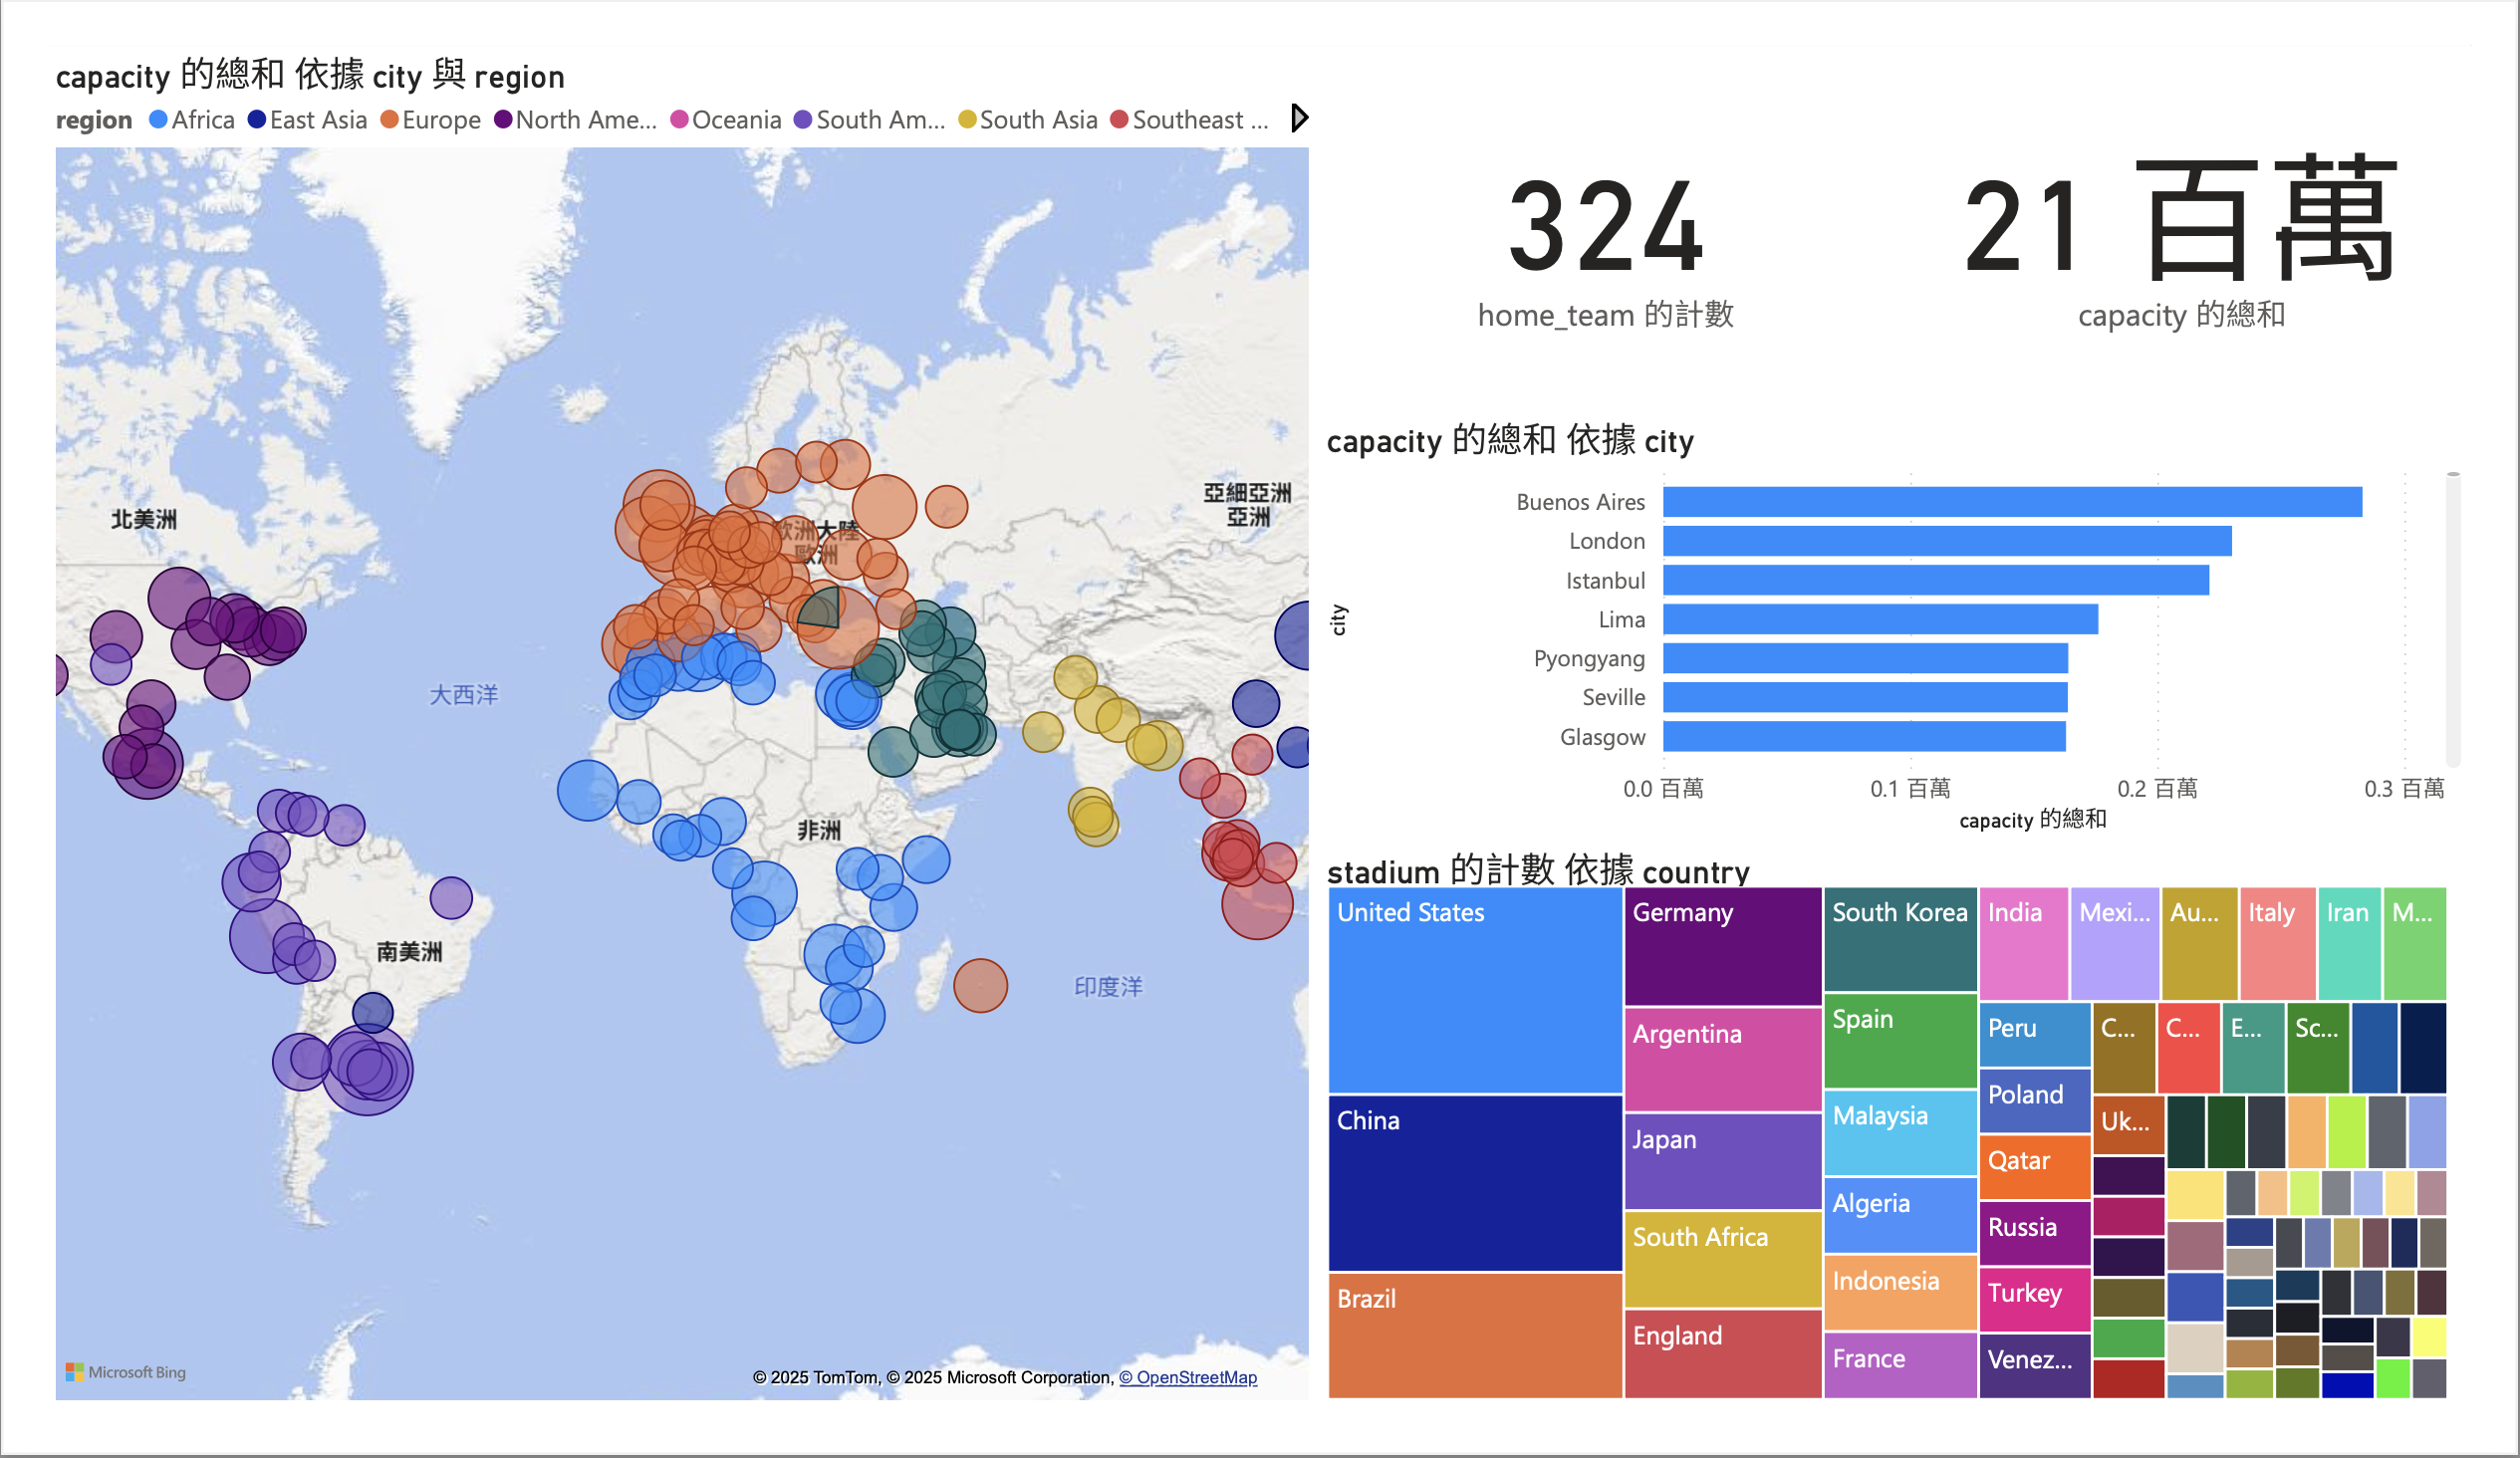

The page's visual inventory and layout, read from the dashboard file:
{"tool":"powerbi","page":{"name":"第 1 頁","canvas":[1280,720],"ordinal":0},"visuals":[{"type":"map","fields":{"Category":["stadium_cleaned_2025-04-13_05_4.city"],"Size":["Sum(stadium_cleaned_2025-04-13_05_4.capacity)"],"Series":["stadium_cleaned_2025-04-13_05_4.region"]},"box":[0,0,670.9,720],"z":0},{"type":"card","fields":{"Values":["Sum(stadium_cleaned_2025-04-13_05_4.capacity)"]},"box":[975.1,0,304.3,192.8],"z":1000},{"type":"card","fields":{"Values":["CountNonNull(stadium_cleaned_2025-04-13_05_4.home_team)"]},"box":[670.9,0,304.3,192.8],"z":1001},{"type":"treemap","fields":{"Group":["stadium_cleaned_2025-04-13_05_4.country"],"Values":["CountNonNull(stadium_cleaned_2025-04-13_05_4.stadium)"]},"box":[670.9,419.5,600.9,300.5],"z":1002},{"type":"clusteredBarChart","fields":{"Y":["Sum(stadium_cleaned_2025-04-13_05_4.capacity)"],"Category":["stadium_cleaned_2025-04-13_05_4.city"]},"box":[670.9,192.8,608.5,226.8],"z":1003}]}

Visuals, with their boxes in screenshot pixels (x1, y1, x2, y2), scaled from the page's 1280x720 canvas onto the 2520x1458 screenshot:
map - stadium_cleaned_2025-04-13_05_4.city x Sum(stadium_cleaned_2025-04-13_05_4.capacity): 0:0:1321:1457
card - Sum(stadium_cleaned_2025-04-13_05_4.capacity): 1919:0:2519:390
card - CountNonNull(stadium_cleaned_2025-04-13_05_4.home_team): 1321:0:1920:390
treemap - stadium_cleaned_2025-04-13_05_4.country x CountNonNull(stadium_cleaned_2025-04-13_05_4.stadium): 1321:850:2504:1457
clusteredBarChart - Sum(stadium_cleaned_2025-04-13_05_4.capacity) x stadium_cleaned_2025-04-13_05_4.city: 1321:390:2519:850
